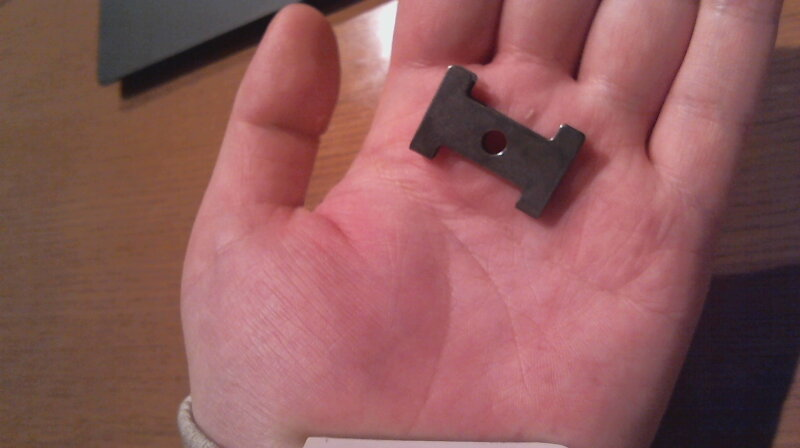O002: (405, 63, 590, 218)
